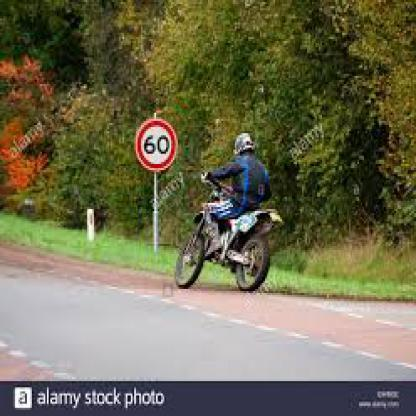Speed Limit 60: (137, 118, 178, 172)
